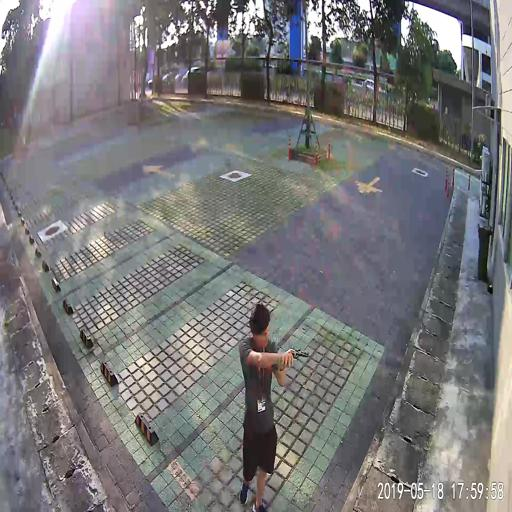pistol: (287, 344, 308, 360)
